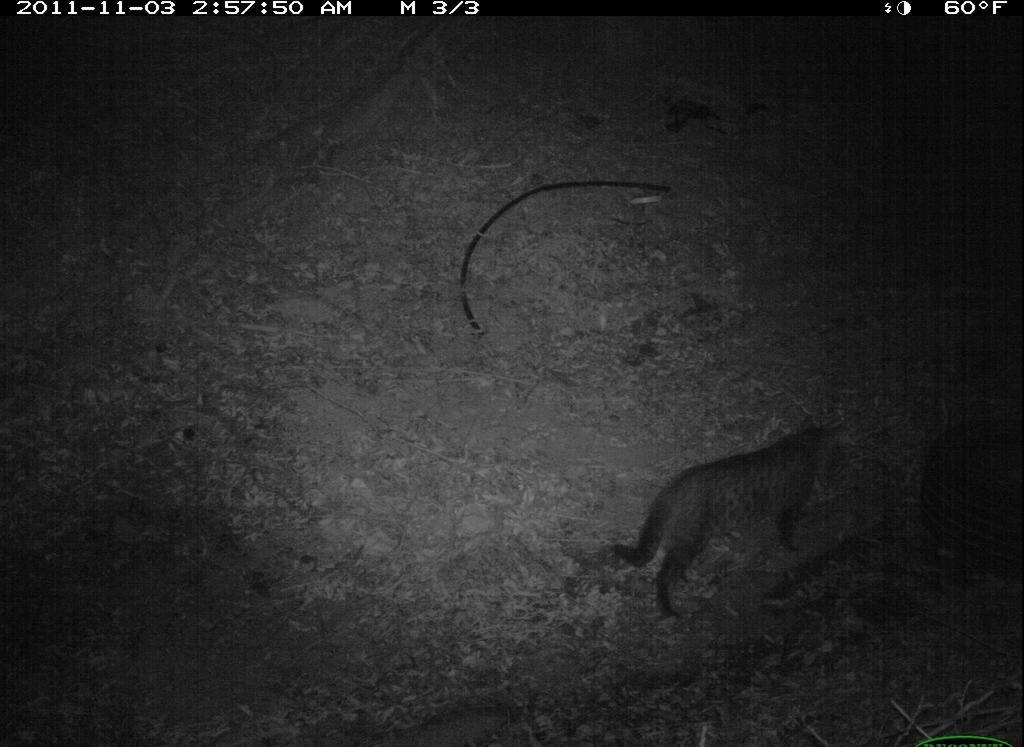cat: (606, 406, 859, 632)
